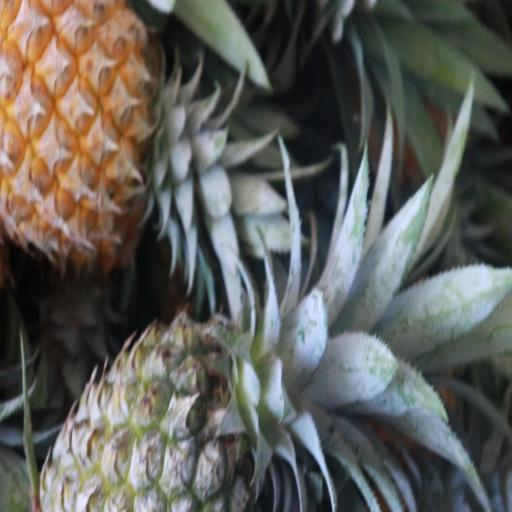------------------------------: (44, 310, 316, 512)
Pineapple - v8 v1: (2, 0, 184, 262)
